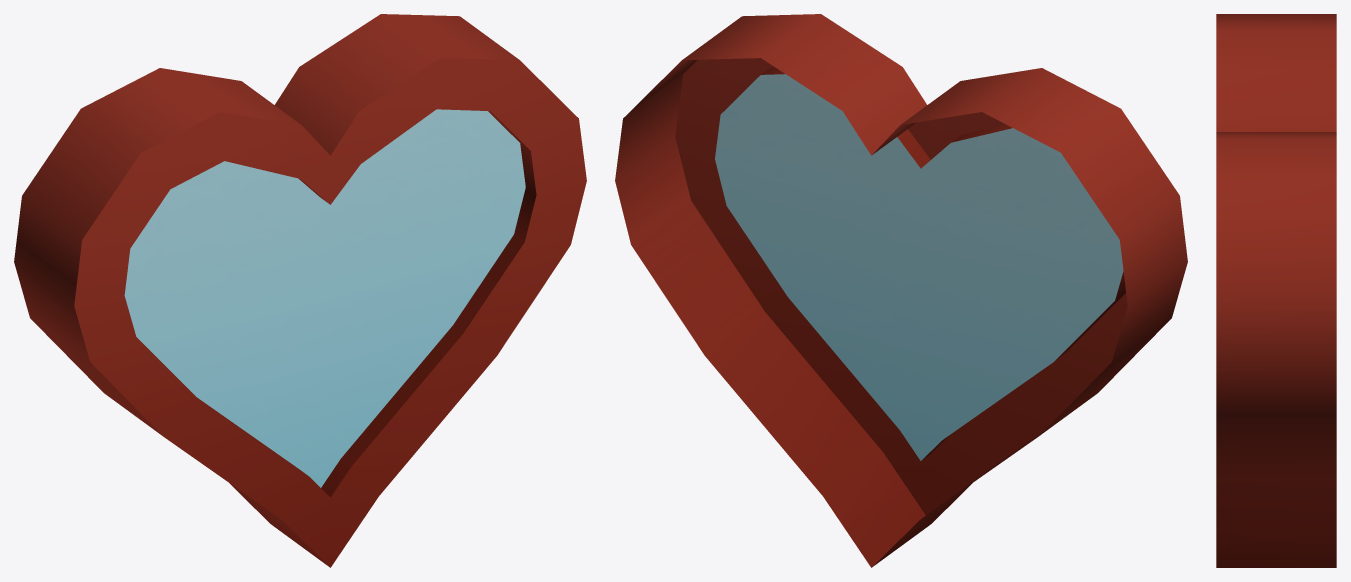
Rendered from Window_13A.fbx.
The picture shows the model from 3 angles, left to right: view 1: azimuth 30°, elevation 25°; view 2: azimuth 150°, elevation 25°; view 3: azimuth 270°, elevation 25°; orthographic projection.
Visible parts, largest first — view 1: Window_13A; view 2: Window_13A; view 3: Window_13A.
Boxes of the visible parts, bbox=[...] form: Window_13A: bbox=[14, 14, 586, 567]; Window_13A: bbox=[615, 14, 1187, 567]; Window_13A: bbox=[1216, 14, 1336, 567].
Bounding box in the file's own units: 86.02 × 77.43 × 17.49.
2 materials, 2 textured.
